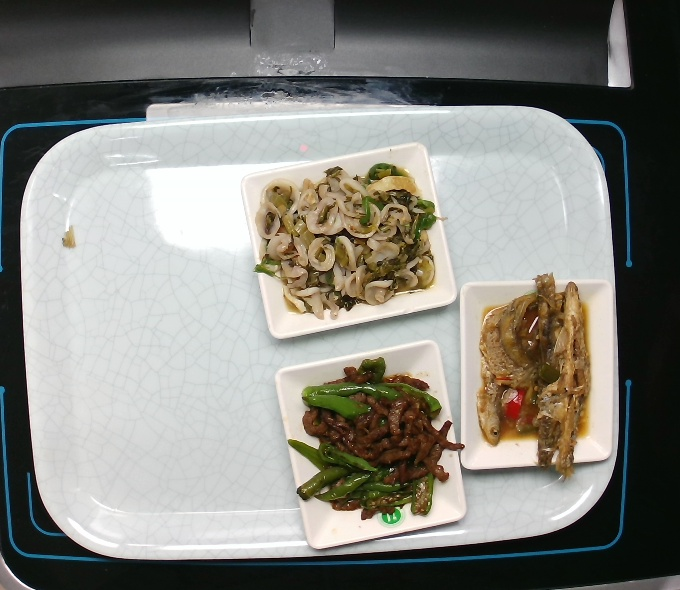wcq-QingJiaoNiuRou: (284, 352, 468, 527)
wcq-XiaoXiYu: (472, 269, 594, 487)
wcq-XueCaiYouYu: (251, 156, 449, 324)
